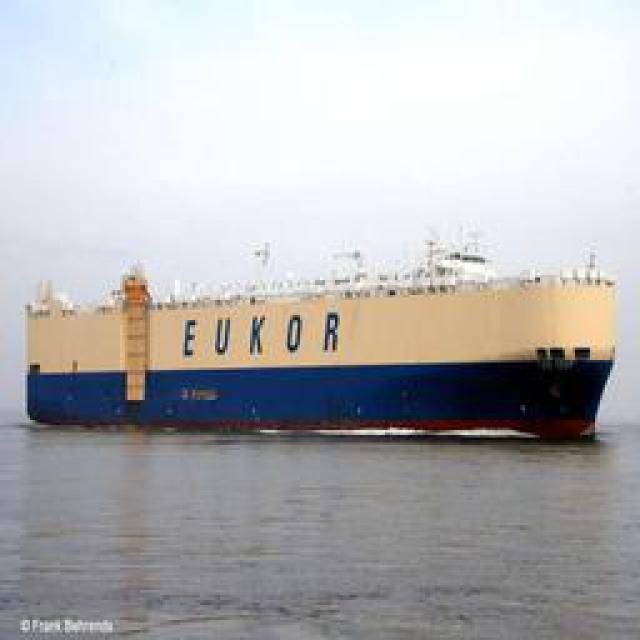Ship: (11, 249, 629, 449)
